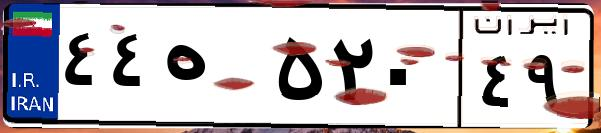0: (385, 28, 445, 110)
2: (330, 28, 385, 110)
4: (57, 26, 110, 100), (475, 38, 525, 113), (110, 28, 158, 98)
5: (270, 28, 330, 110)
9: (525, 38, 570, 115)
ه: (158, 20, 270, 120)
